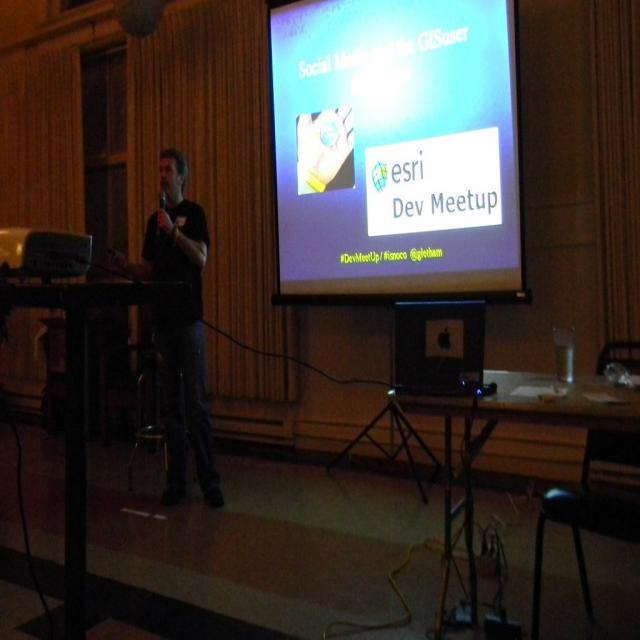chair: (530, 429, 640, 637)
desk: (370, 328, 632, 617)
person: (133, 148, 226, 509)
tv: (267, 2, 528, 303)
